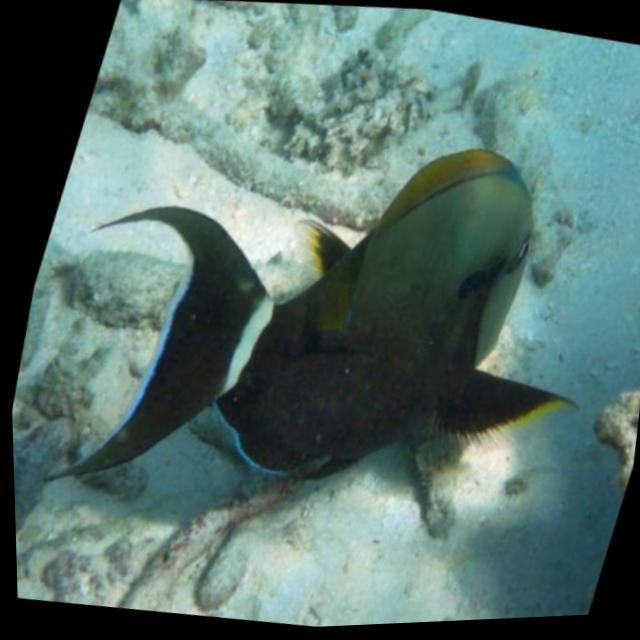Dead Coral: (48, 0, 438, 259), (20, 227, 167, 334)
